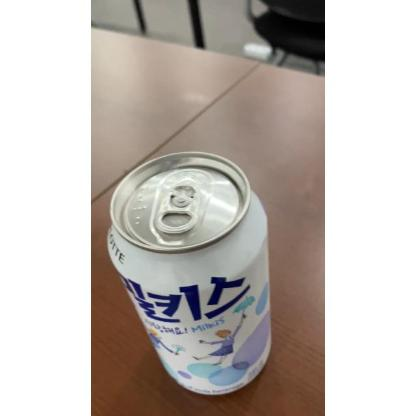Can: (107, 152, 273, 396)
